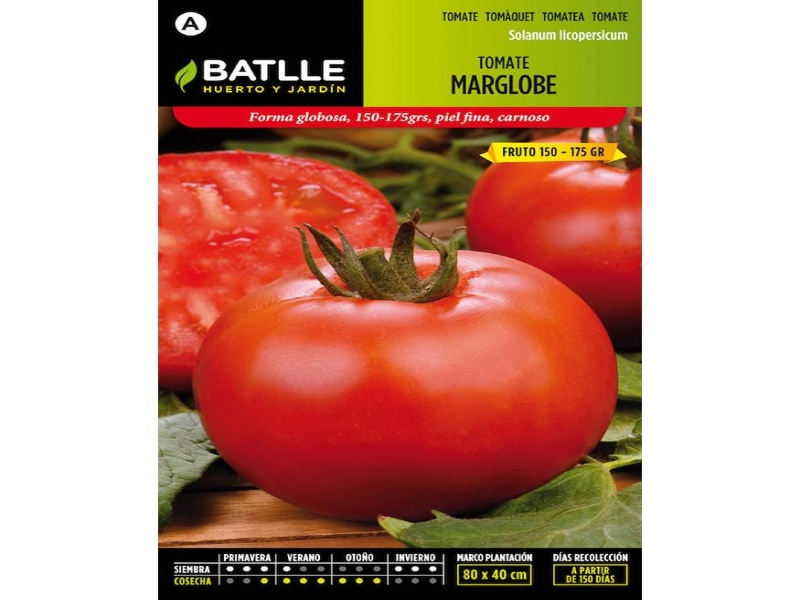Tomate: (193, 249, 621, 523), (159, 153, 401, 384), (468, 130, 643, 349)
